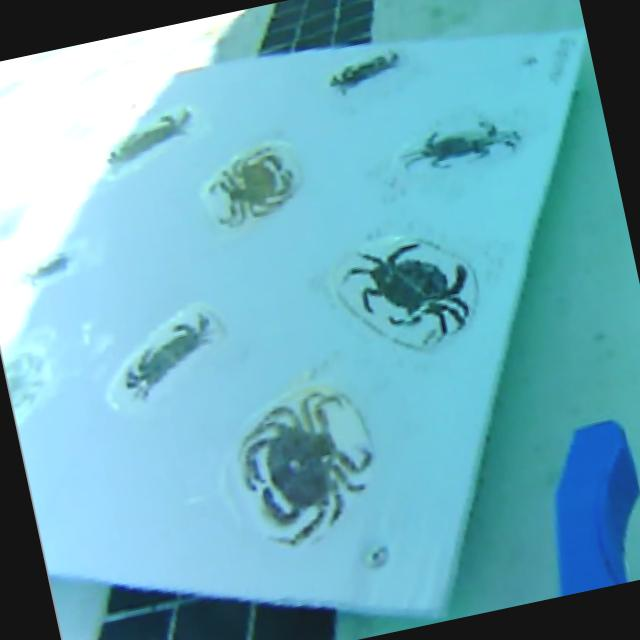green_crab: (346, 242, 468, 332), (402, 119, 520, 168), (23, 253, 69, 283)
jonah_crab: (240, 389, 372, 545), (203, 141, 298, 224), (6, 348, 45, 423)
rock_crab: (109, 302, 221, 405), (108, 111, 188, 162), (329, 54, 398, 93)
